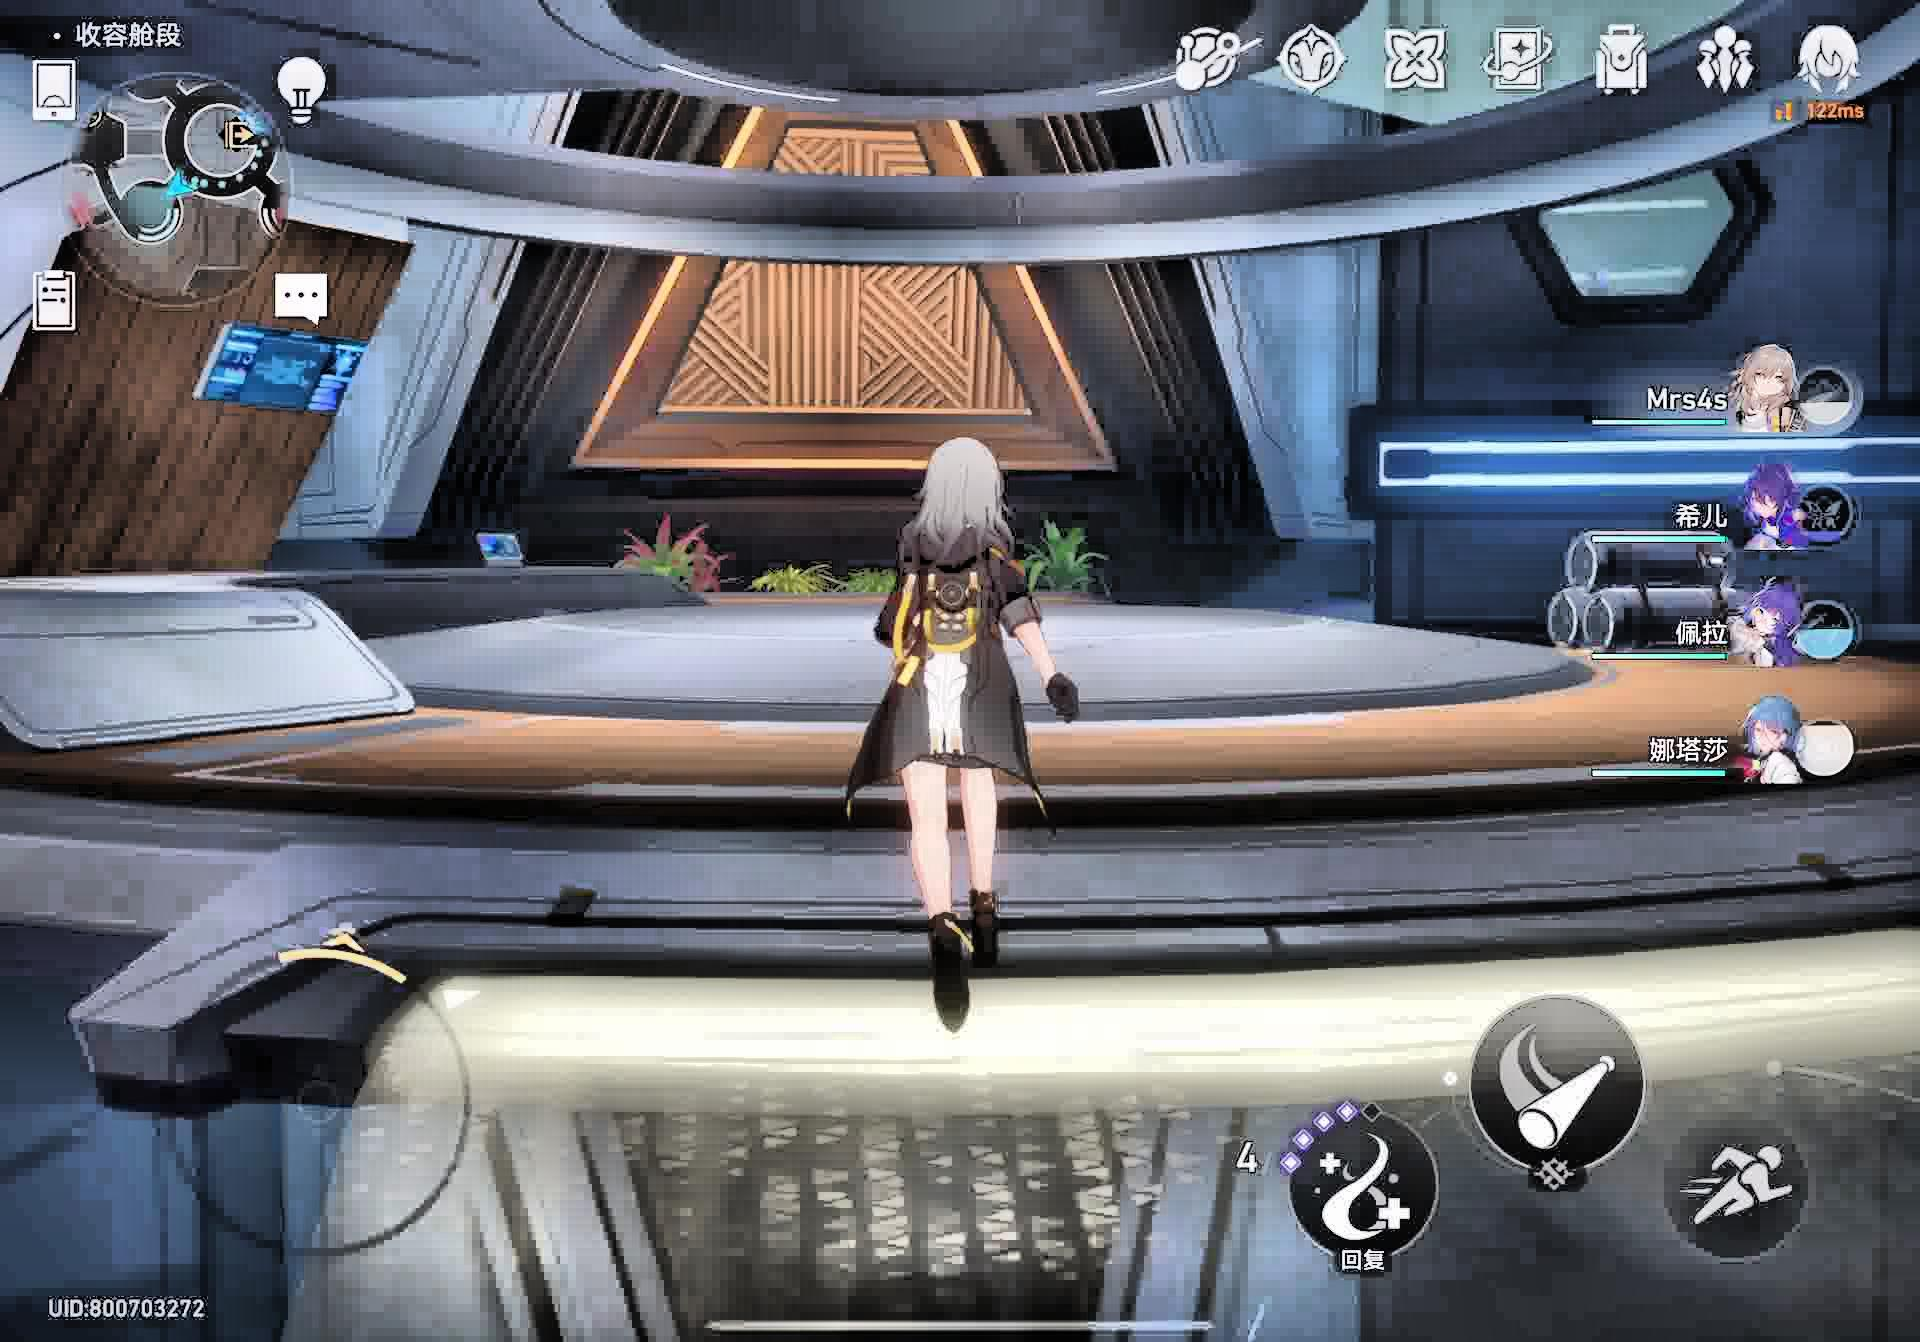Box: (1526, 519, 1751, 656)
Self: (856, 438, 1087, 1039)
